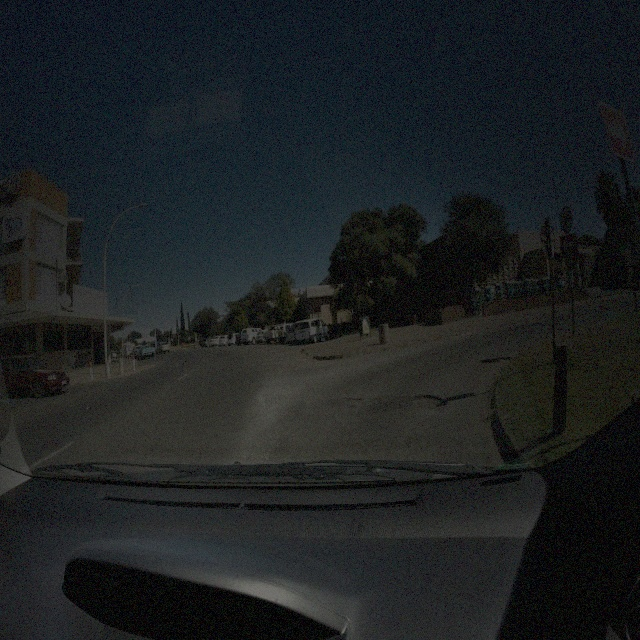pothole: (338, 394, 385, 409), (410, 391, 448, 409)
